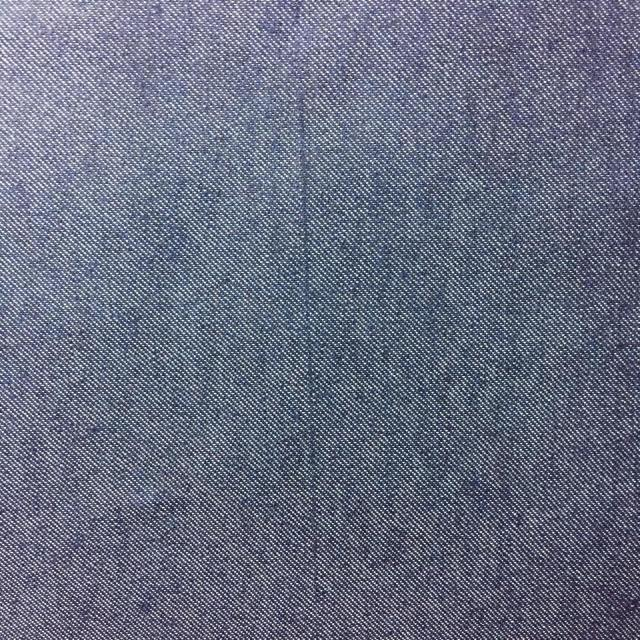Line: (290, 41, 323, 625)
